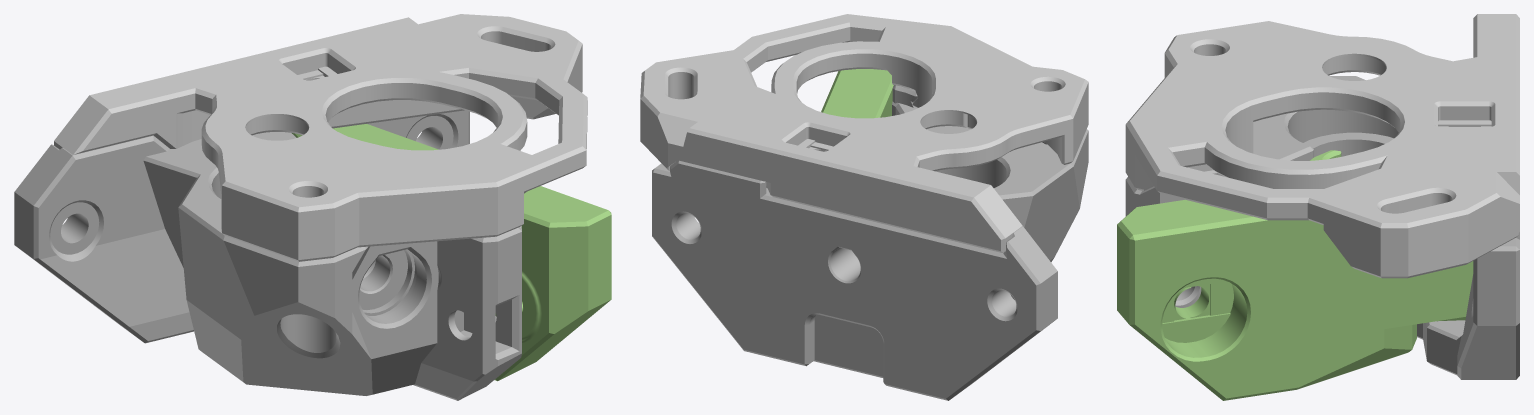
The model's file is A4T - WW-BMG - Crossbow.gltf.
3 renders of one model, left to right at view 1: azimuth 30°, elevation 25°; view 2: azimuth 150°, elevation 25°; view 3: azimuth 270°, elevation 25°, orthographic. The views are drawn at different scales.
Parts seen in each view (by area): view 1: A4T - WWBMG - Main_Body [Sherpa-Mini spacing] - Crossbow, A4T - WWBMG - Motor Plate, A4T - WWBMG - Beefy_Tension_Arm - Smooth_Idler; view 2: A4T - WWBMG - Main_Body [Sherpa-Mini spacing] - Crossbow, A4T - WWBMG - Motor Plate, A4T - WWBMG - Beefy_Tension_Arm - Smooth_Idler; view 3: A4T - WWBMG - Motor Plate, A4T - WWBMG - Beefy_Tension_Arm - Smooth_Idler, A4T - WWBMG - Main_Body [Sherpa-Mini spacing] - Crossbow.
Boxes of the visible parts, x1,y1,x2,y2 form: A4T - WWBMG - Main_Body [Sherpa-Mini spacing] - Crossbow: [14, 110, 521, 400]; A4T - WWBMG - Motor Plate: [54, 14, 587, 261]; A4T - WWBMG - Beefy_Tension_Arm - Smooth_Idler: [292, 124, 611, 381]; A4T - WWBMG - Main_Body [Sherpa-Mini spacing] - Crossbow: [652, 85, 1088, 400]; A4T - WWBMG - Motor Plate: [640, 14, 1088, 252]; A4T - WWBMG - Beefy_Tension_Arm - Smooth_Idler: [821, 69, 893, 118]; A4T - WWBMG - Motor Plate: [1125, 14, 1519, 278]; A4T - WWBMG - Beefy_Tension_Arm - Smooth_Idler: [1117, 150, 1473, 400]; A4T - WWBMG - Main_Body [Sherpa-Mini spacing] - Crossbow: [1125, 76, 1519, 379].
Bounding box in the file's own units: 0.0615 × 0.0276 × 0.0423.
